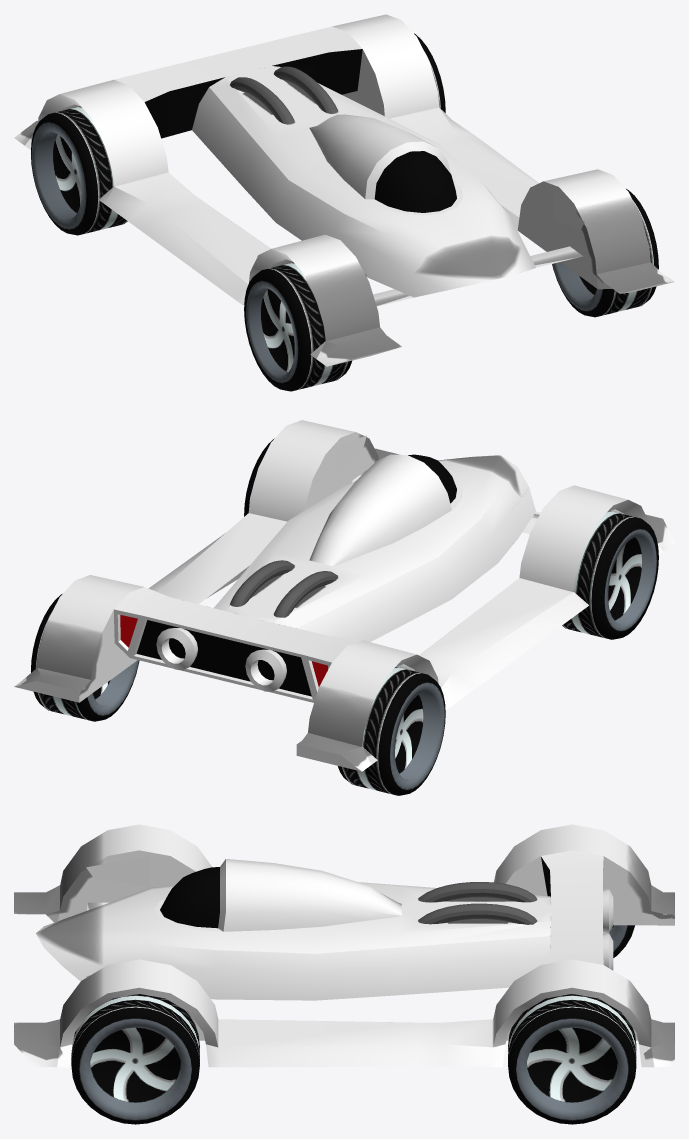
Rendered from Sled-Galarian.fbx.
The picture shows the model from 3 angles, top to bottom: view 1: azimuth 30°, elevation 25°; view 2: azimuth 150°, elevation 25°; view 3: azimuth 270°, elevation 25°; orthographic projection. The views are drawn at different scales.
Visible parts, largest first — view 1: Sled-Galarian, Tire.015, Tire.013, Tire.014; view 2: Sled-Galarian, Tire.013, Tire.015, Tire.012; view 3: Sled-Galarian, Tire.012, Tire.014, Tire.013.
Part boxes in pixels (left/top/right/bottom): Sled-Galarian: left=14, top=14, right=674, bottom=366; Tire.015: left=244, top=262, right=351, bottom=391; Tire.013: left=31, top=106, right=127, bottom=235; Tire.014: left=552, top=189, right=658, bottom=317; Sled-Galarian: left=14, top=420, right=674, bottom=771; Tire.013: left=338, top=667, right=445, bottom=795; Tire.015: left=562, top=511, right=658, bottom=639; Tire.012: left=31, top=594, right=139, bottom=721; Sled-Galarian: left=14, top=824, right=674, bottom=1067; Tire.012: left=508, top=994, right=636, bottom=1124; Tire.014: left=71, top=994, right=199, bottom=1124; Tire.013: left=603, top=925, right=634, bottom=957.
Bounding box in the file's own units: 165 × 75 × 257.
Materials: 2 (2 with a texture image).
